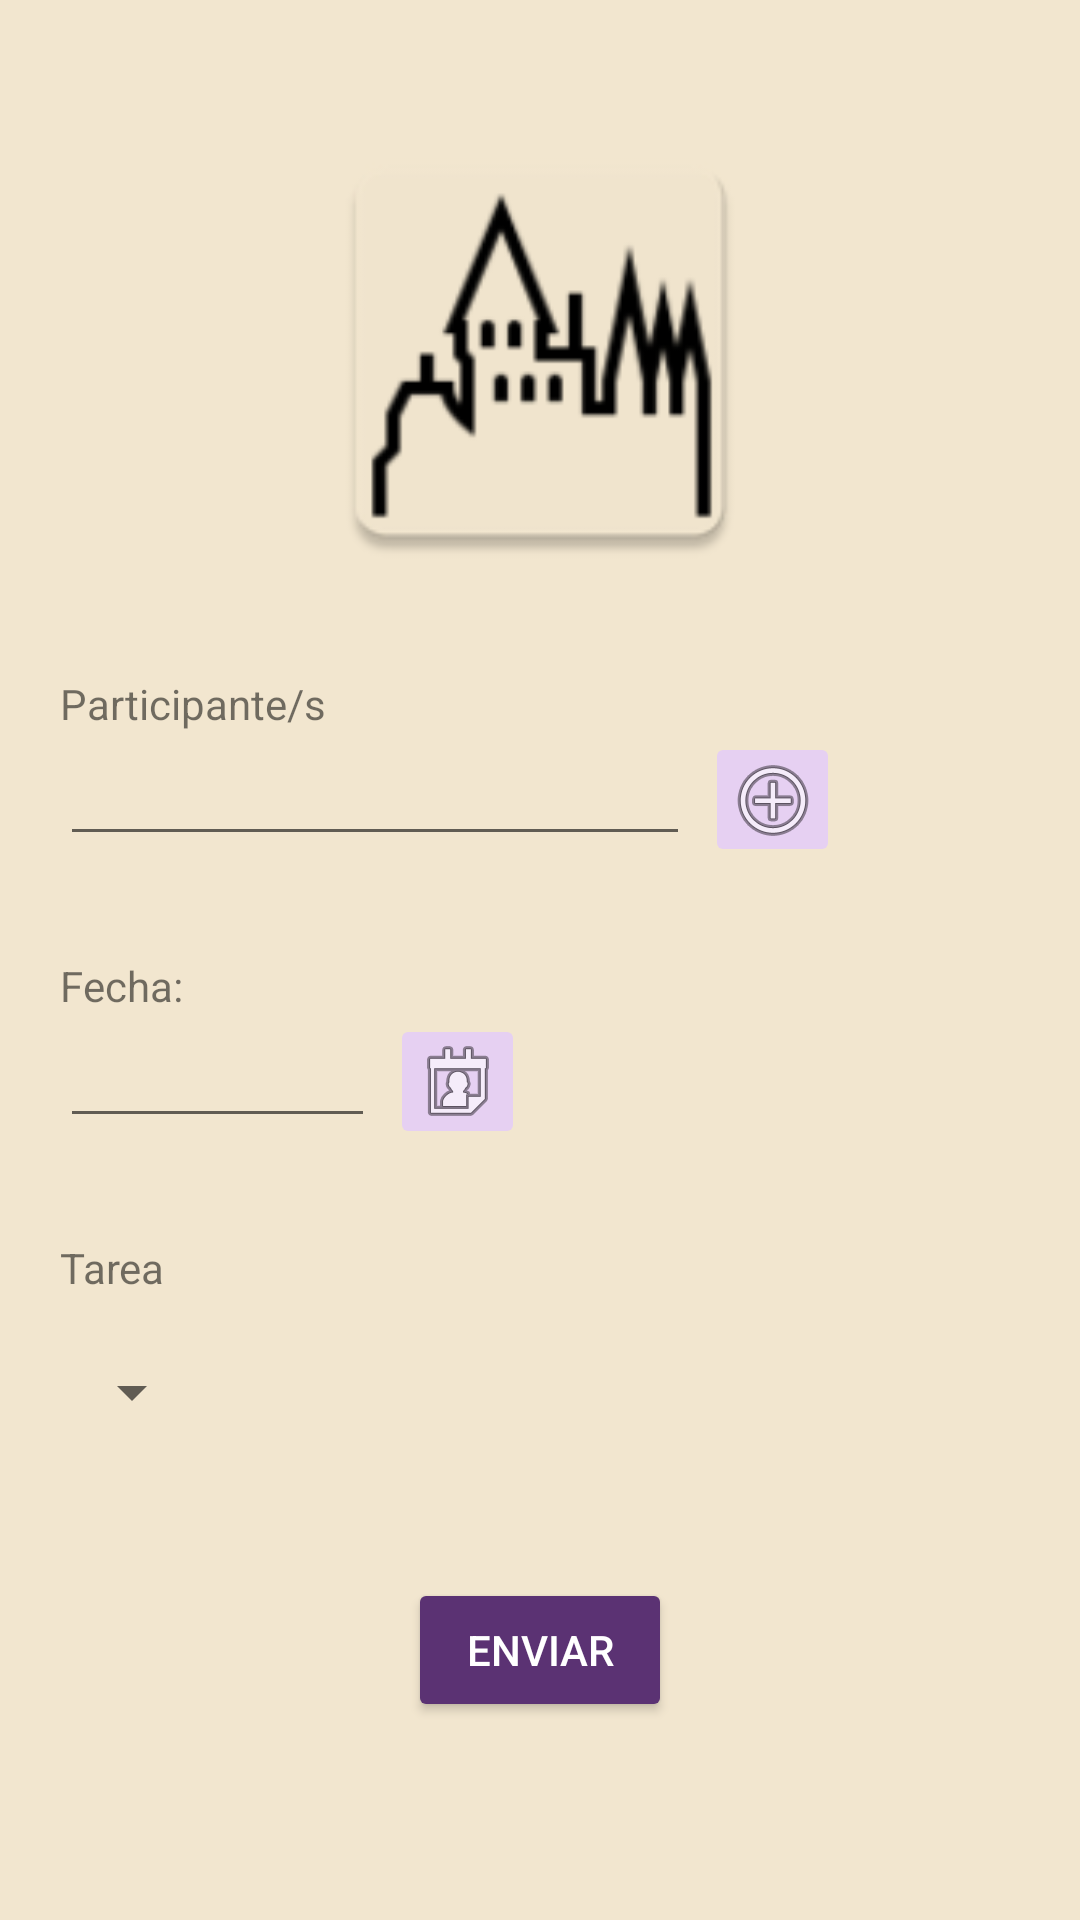

Named icons in this screenshot (1080*1920) and their centers, [x,y]:
add: [772,799]
calendar: [457,1081]
